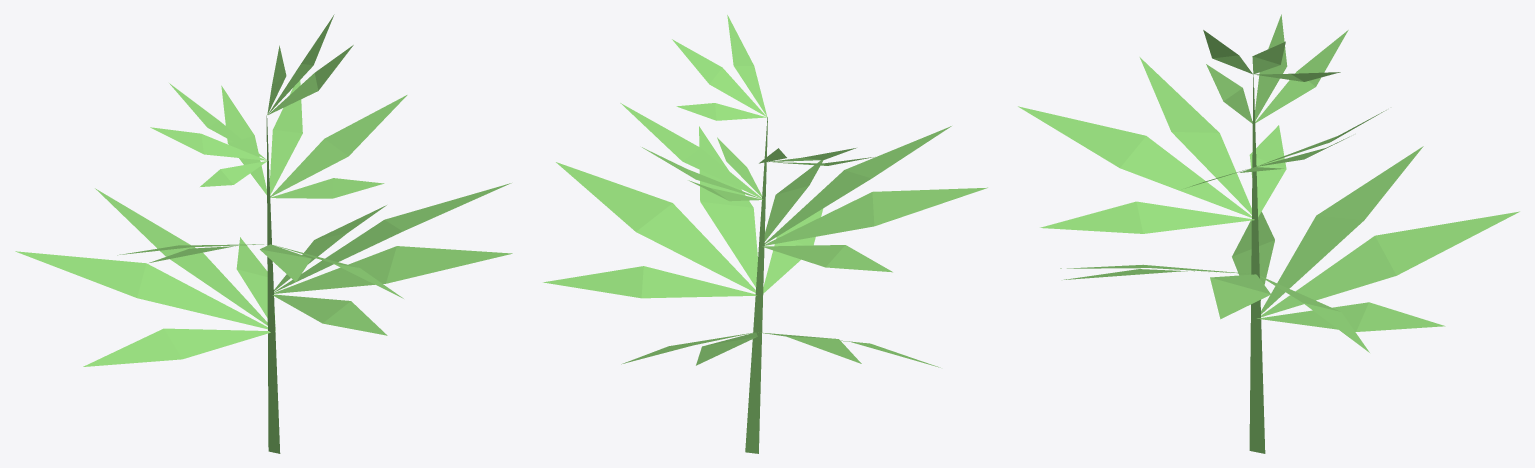
File: Plant_i_OneS_05.fbx
3 views of the same model, side by side, from view 1: azimuth 30°, elevation 25°; view 2: azimuth 150°, elevation 25°; view 3: azimuth 270°, elevation 25° (orthographic). The views are drawn at different scales.
Visible parts, largest first — view 1: Plant_i_OneS_05; view 2: Plant_i_OneS_05; view 3: Plant_i_OneS_05.
Part boxes in pixels (left/top/right/bottom): Plant_i_OneS_05: left=15, top=14, right=512, bottom=453; Plant_i_OneS_05: left=543, top=15, right=987, bottom=453; Plant_i_OneS_05: left=1018, top=14, right=1519, bottom=453.
Bounding box in the file's own units: 25.9 × 24.72 × 25.11.
